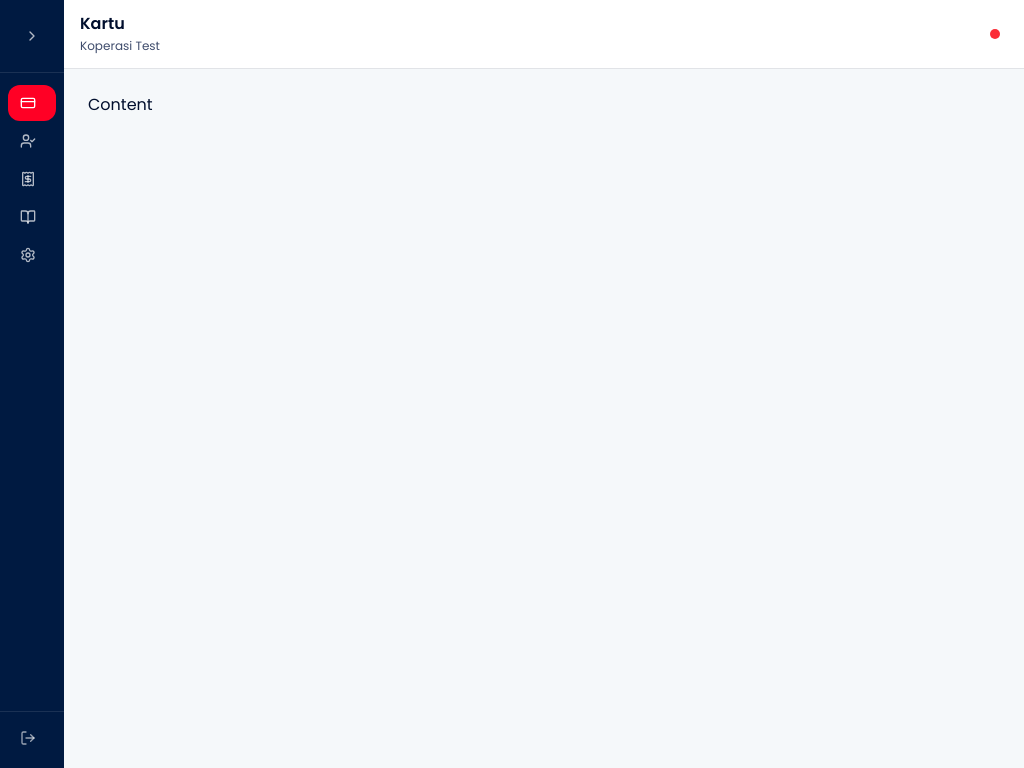
Scenario: AdminLayout - sync drawer content › shows Offline text in sync drawer when offline
The image size is (1024, 768).
Click the button named "Lihat status sinkronisasi" at (995, 34), box [982, 25, 1008, 43]
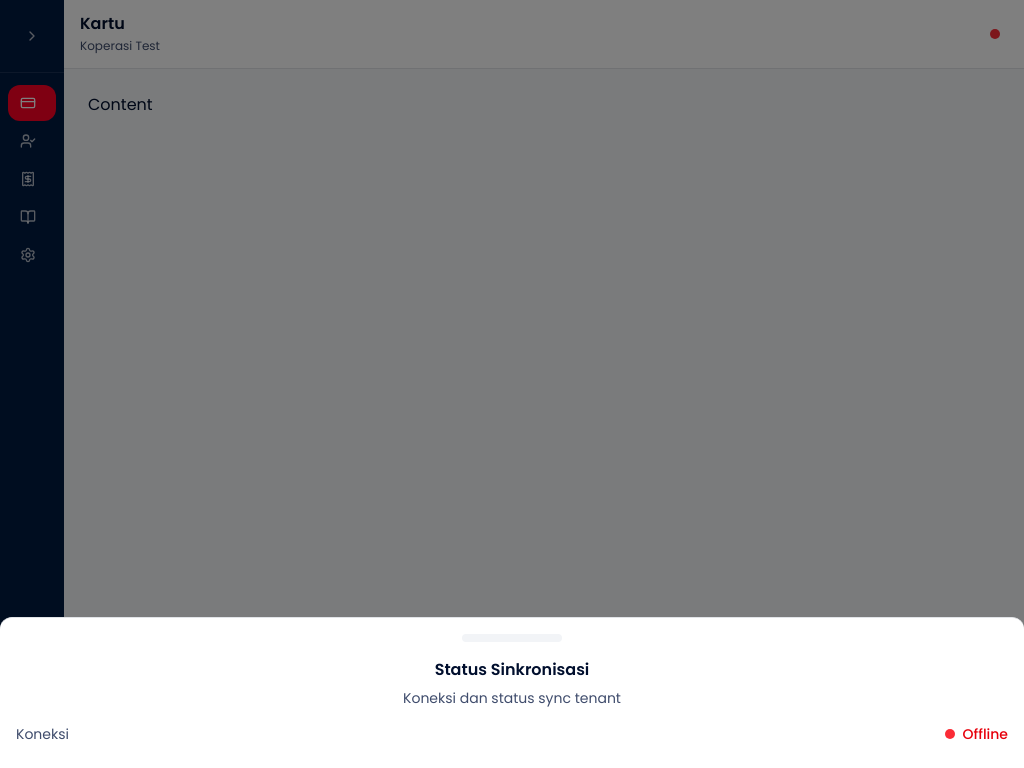
Expected: the text "Offline" is shown, [963, 724, 1008, 744]
